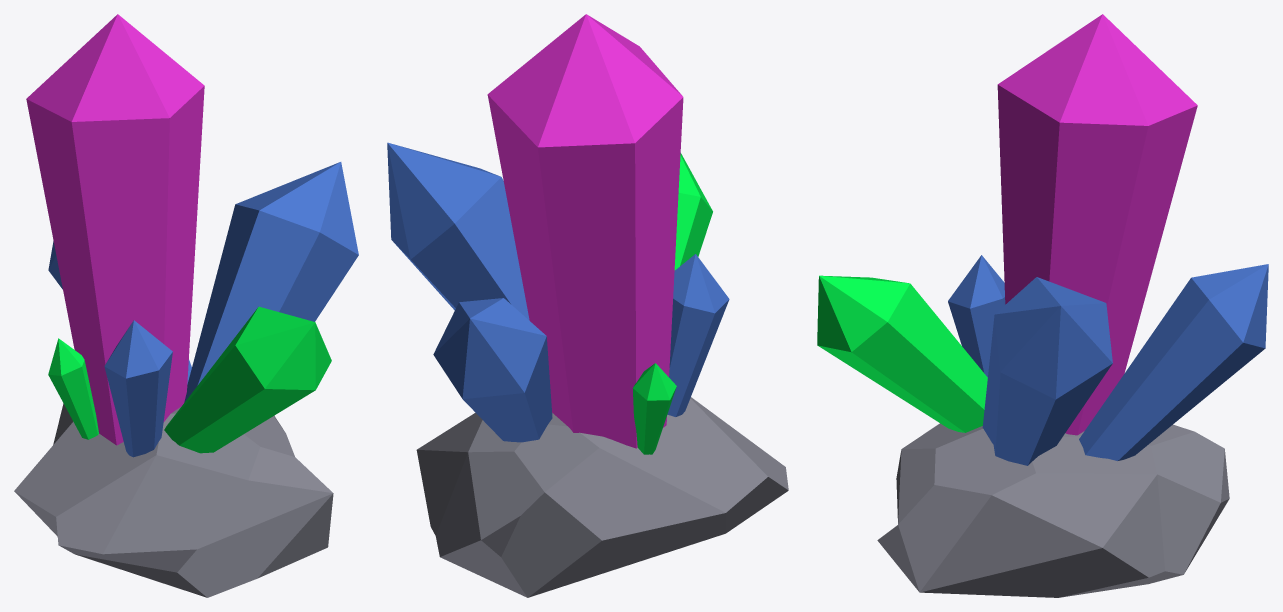
Rendered from CrystalOre.fbx.
3 renders of one model, left to right at view 1: azimuth 30°, elevation 25°; view 2: azimuth 150°, elevation 25°; view 3: azimuth 270°, elevation 25°, orthographic. The views are drawn at different scales.
Visible parts, largest first — view 1: Crystals, Stone; view 2: Crystals, Stone; view 3: Crystals, Stone.
Boxes of the visible parts, bbox=[...] form: Crystals: bbox=[26, 14, 358, 457]; Stone: bbox=[14, 403, 333, 597]; Crystals: bbox=[387, 14, 729, 454]; Stone: bbox=[416, 397, 788, 597]; Crystals: bbox=[817, 14, 1268, 465]; Stone: bbox=[877, 423, 1229, 597].
Size of the model in its own units: 46.63 by 69.83 by 53.95.
